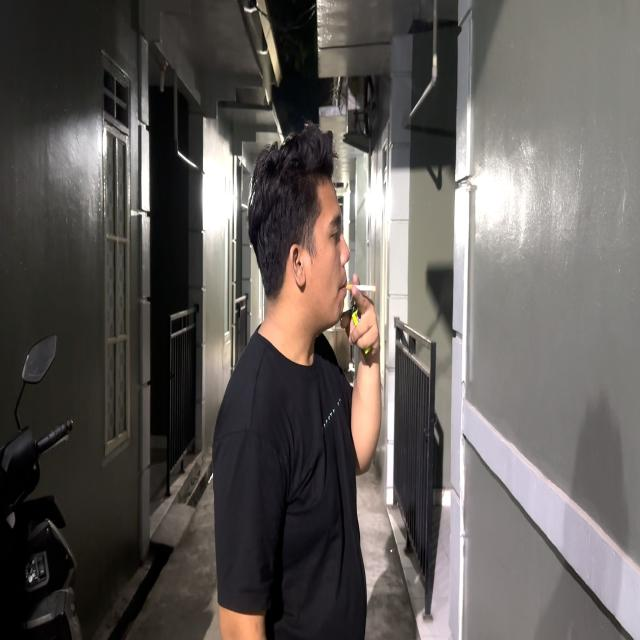cigarette: (347, 282, 377, 295)
smoking: (249, 132, 381, 475)
